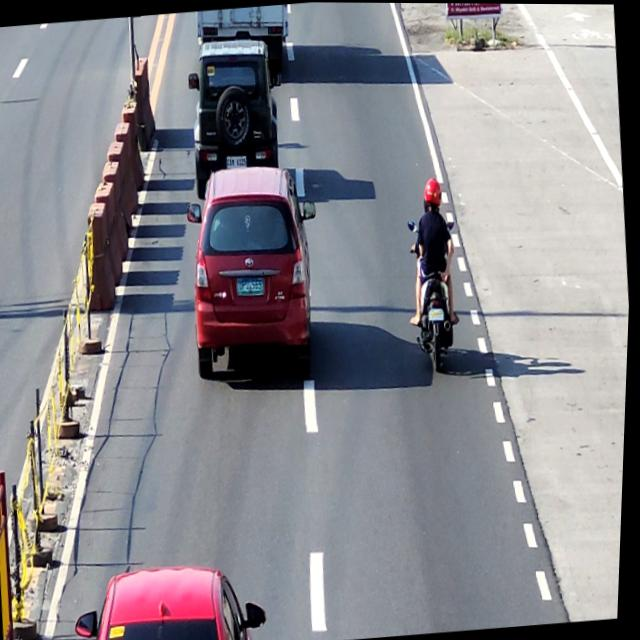Car: (182, 159, 332, 380), (184, 34, 289, 200), (74, 558, 275, 640)
License-Plate: (237, 275, 266, 296), (226, 153, 249, 168), (429, 306, 447, 321)
Motorcycle: (403, 215, 470, 373)
Truck: (194, 3, 296, 87)
